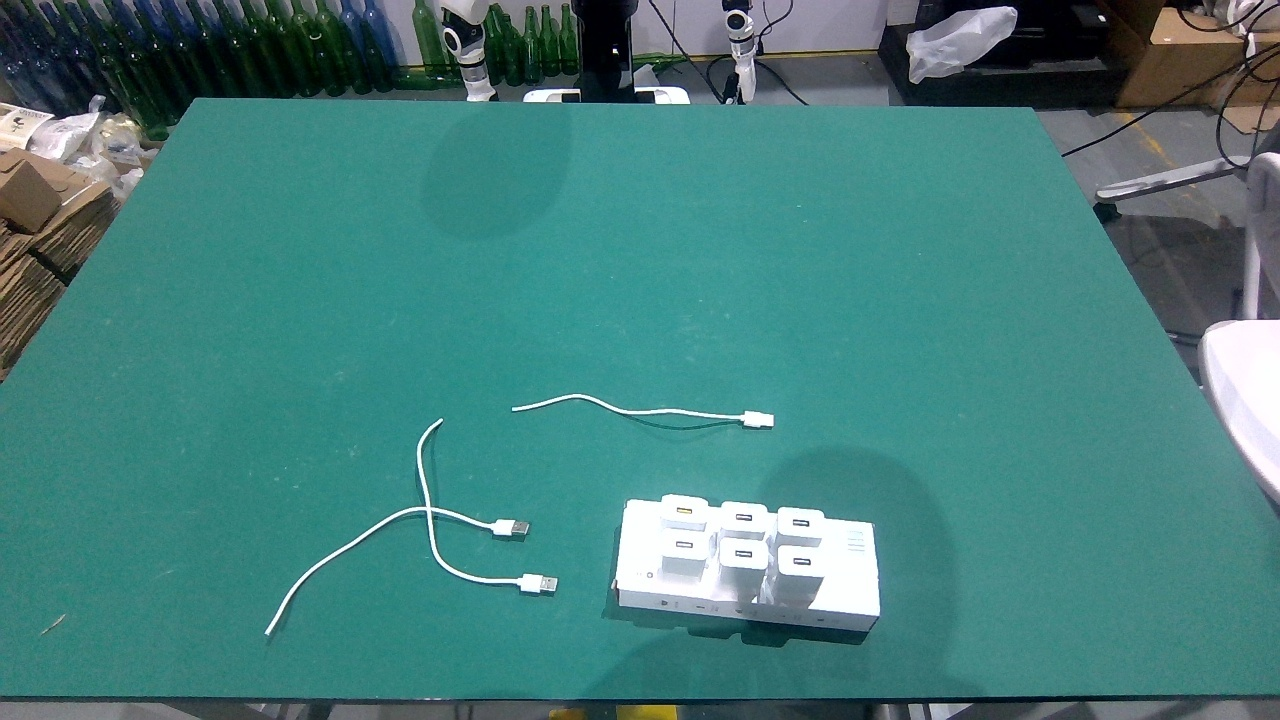usb_a_plug: (504, 571, 559, 595), (727, 409, 776, 428), (481, 519, 528, 536)
